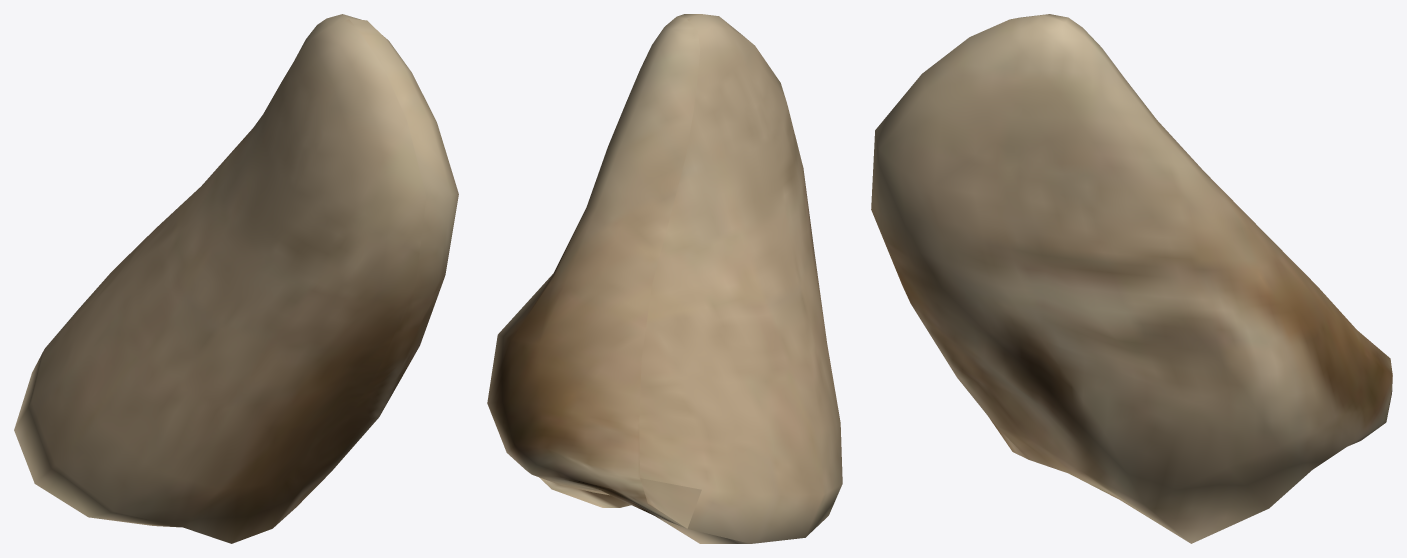
Rendered from Maxilary_Molar3.glb.
3 renders of one model, left to right at view 1: azimuth 30°, elevation 25°; view 2: azimuth 150°, elevation 25°; view 3: azimuth 270°, elevation 25°, orthographic. The views are drawn at different scales.
Visible parts, largest first — view 1: Molar7; view 2: Molar7; view 3: Molar7.
Part boxes in pixels (x1,y1,x2,y2): Molar7: [14, 14, 458, 543]; Molar7: [487, 14, 842, 543]; Molar7: [871, 14, 1392, 543].
Bounding box in the file's own units: 0.0193 × 0.0293 × 0.0268.
Materials: 1 (1 with a texture image).
